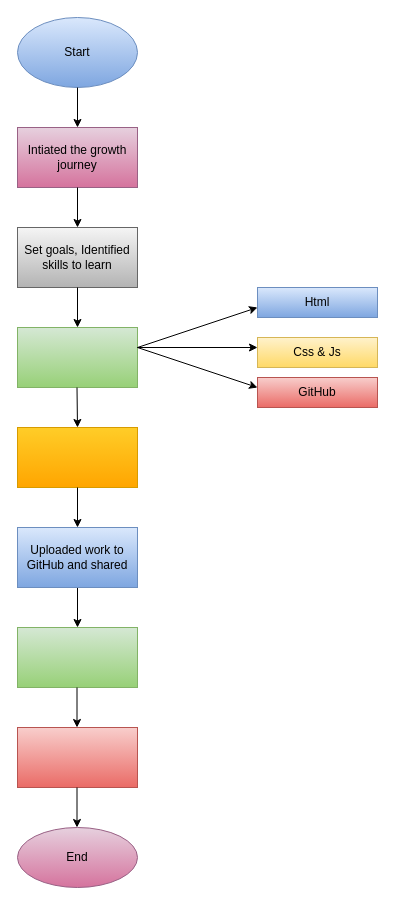
Image size: 395x905. Some labels were removed from this diagram. Here are the shapes that lost their labels. From the top down, the box of each, then its label:
(16, 326, 138, 388): Learned Tools
(16, 426, 138, 488): Created mini projects, applied learning
(16, 626, 138, 688): Managed and improved
(16, 726, 138, 788): Tracked Progress, received growth, set new goals
